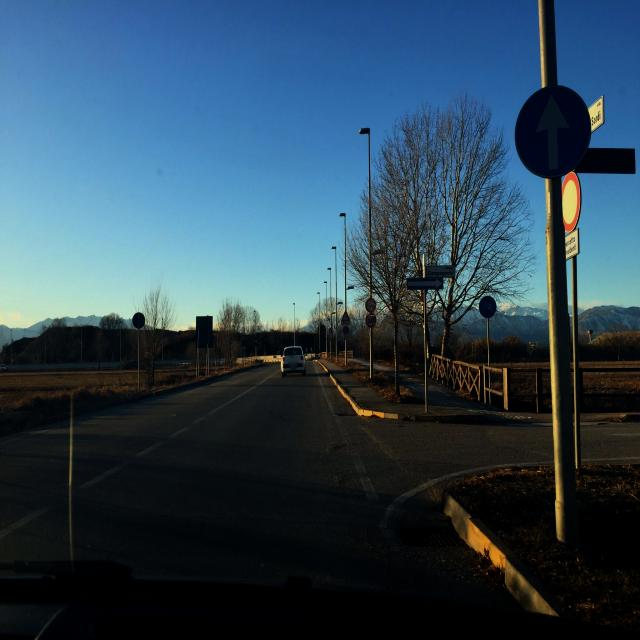car: (281, 346, 307, 378)
